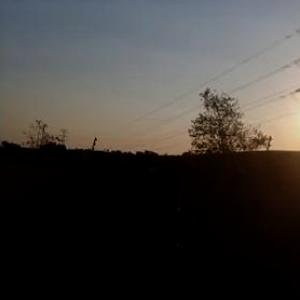follow: (133, 167, 196, 299)
